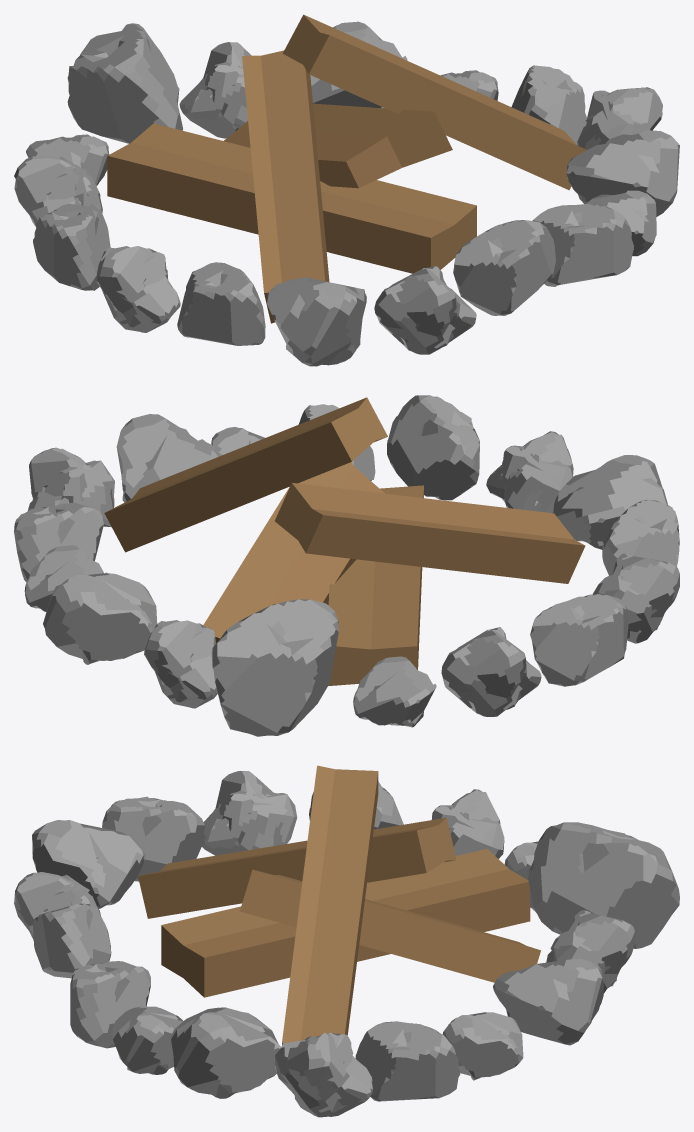
File: fire.glb
The picture shows the model from 3 angles, top to bottom: view 1: azimuth 30°, elevation 25°; view 2: azimuth 150°, elevation 25°; view 3: azimuth 270°, elevation 25°; orthographic projection. The views are drawn at different scales.
Parts seen in each view (by area): view 1: Cube, Cube.003, Cube.002, Cube.004, Cube.001, Cube.006, Cube.010, Cube.007, Cube.020, Cube.008, Cube.009, Cube.011 (+9 smaller); view 2: Cube.002, Cube.003, Cube.004, Cube, Cube.001, Cube.013, Cube.006, Cube.017, Cube.010, Cube.018, Cube.007, Cube.012 (+9 smaller); view 3: Cube, Cube.003, Cube.004, Cube.002, Cube.001, Cube.007, Cube.013, Cube.014, Cube.010, Cube.015, Cube.011, Cube.009 (+9 smaller).
Boxes of the visible parts, x1,y1,x2,y2 form: Cube: (107,123,476,273); Cube.003: (283,14,586,190); Cube.002: (242,50,329,323); Cube.004: (67,23,182,143); Cube.001: (224,103,452,188); Cube.006: (453,220,555,315); Cube.010: (267,277,366,366); Cube.007: (566,130,679,216); Cube.020: (532,204,633,286); Cube.008: (374,266,476,354); Cube.009: (177,262,265,345); Cube.011: (96,246,180,332); Cube.002: (275,483,585,583); Cube.003: (104,397,387,552); Cube.004: (211,599,338,736); Cube: (328,485,423,685); Cube.001: (203,462,384,643); Cube.013: (43,573,157,664); Cube.006: (387,395,479,500); Cube.017: (530,594,628,686); Cube.010: (553,455,667,549); Cube.018: (441,627,541,716); Cube.007: (116,414,217,502); Cube.012: (144,620,217,708); Cube: (161,849,530,997); Cube.003: (282,765,378,1044); Cube.004: (528,822,679,948); Cube.002: (138,817,456,918); Cube.001: (240,869,540,982); Cube.007: (171,1007,280,1098); Cube.013: (493,958,603,1045); Cube.014: (355,1021,460,1101); Cube.010: (32,820,145,908); Cube.015: (275,1032,372,1117); Cube.011: (202,771,297,855); Cube.009: (102,796,205,881).
Size of the model in its own units: 1.41 by 0.4823 by 1.38.
